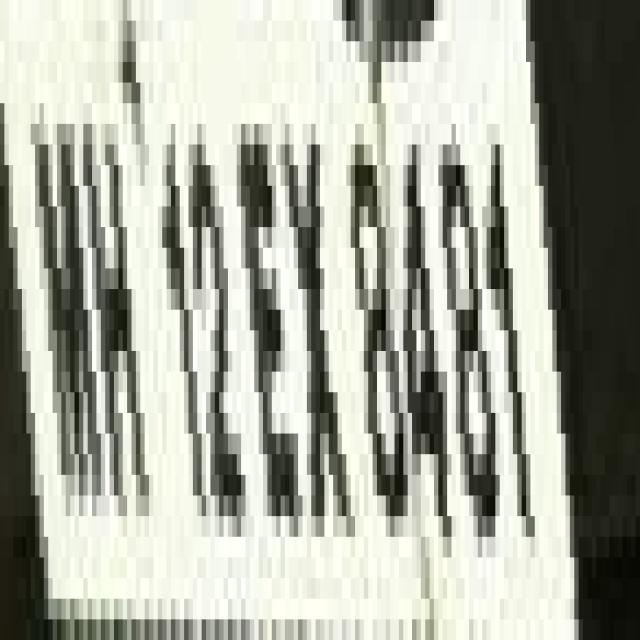license_plate: (13, 20, 596, 640)
